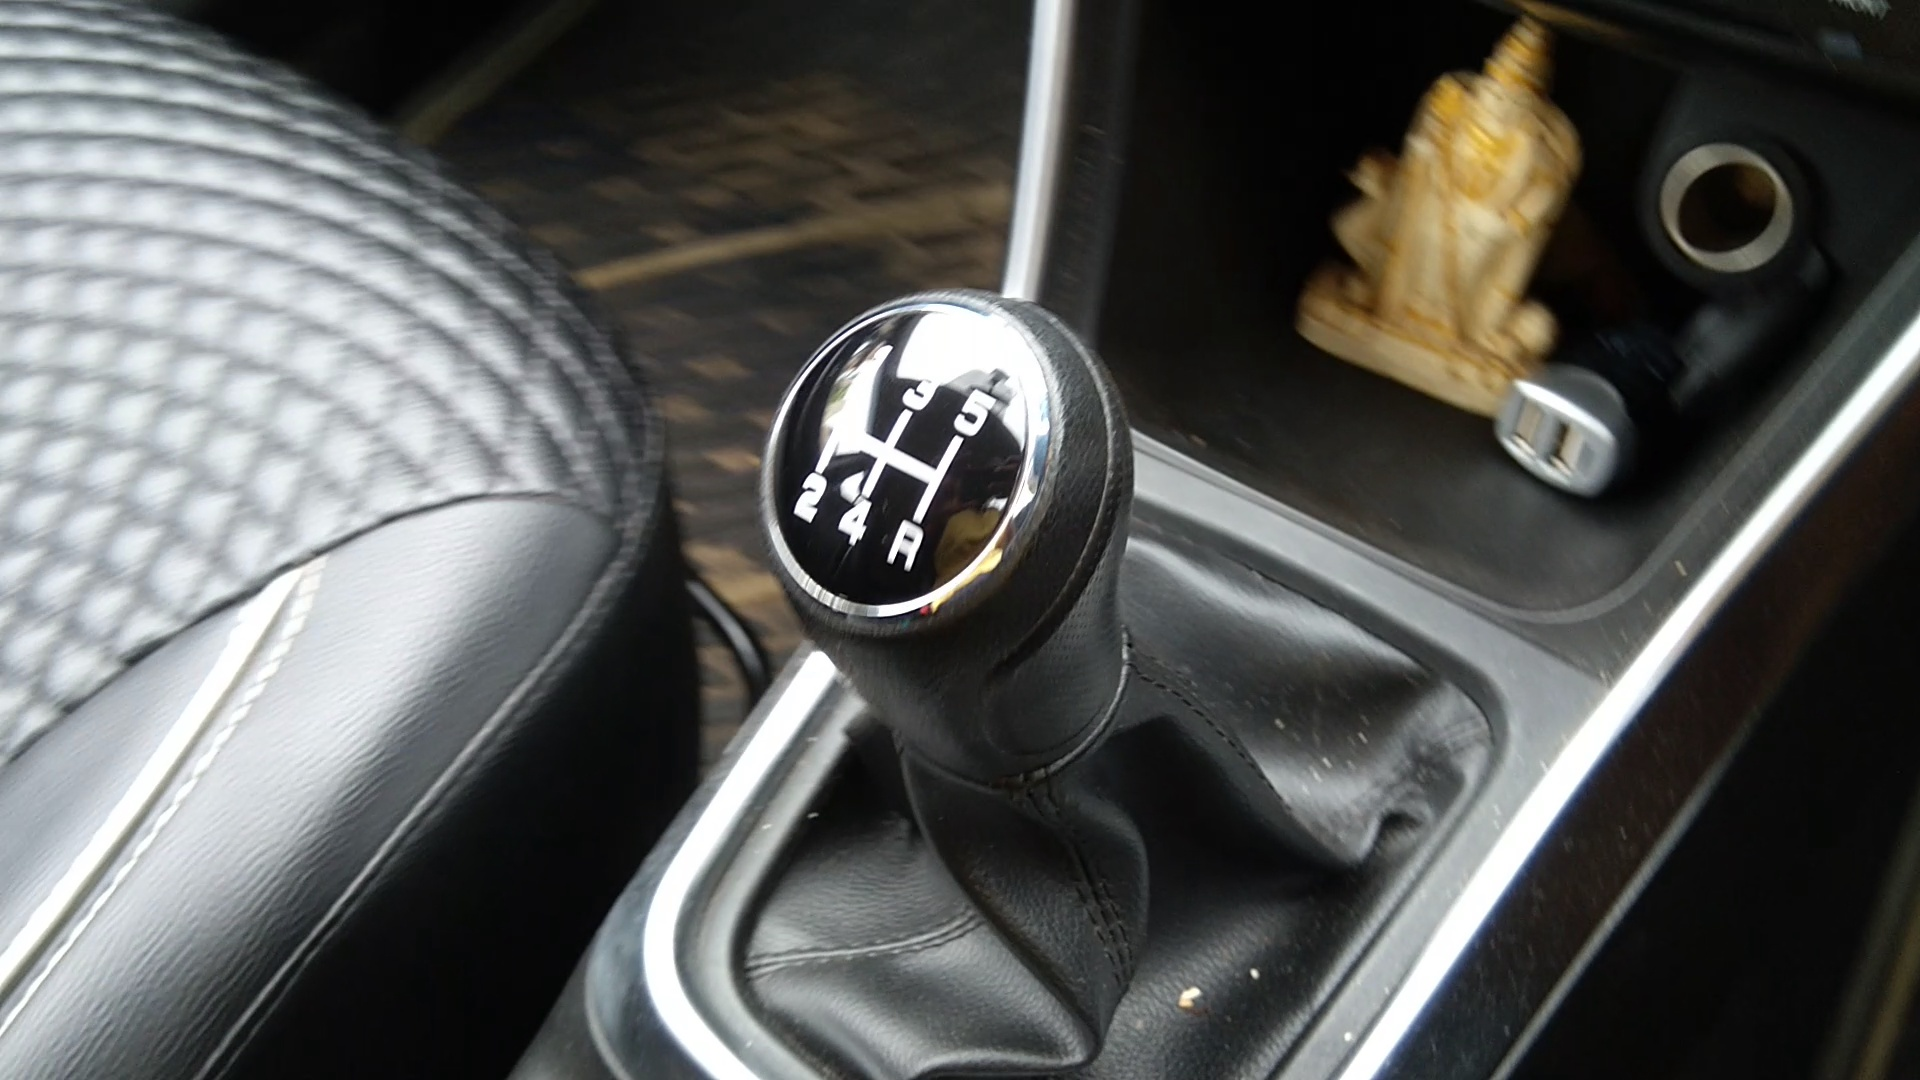manual_gear: (761, 280, 1135, 804)
